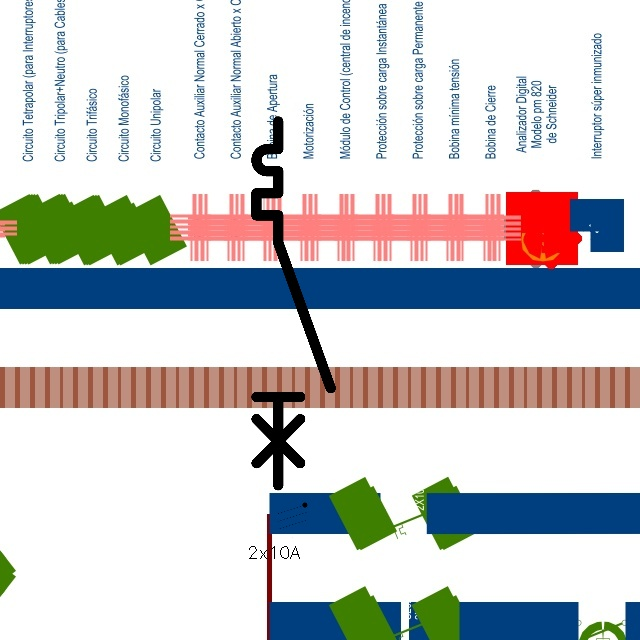interruptor_termomagnetico: (247, 112, 340, 494)
